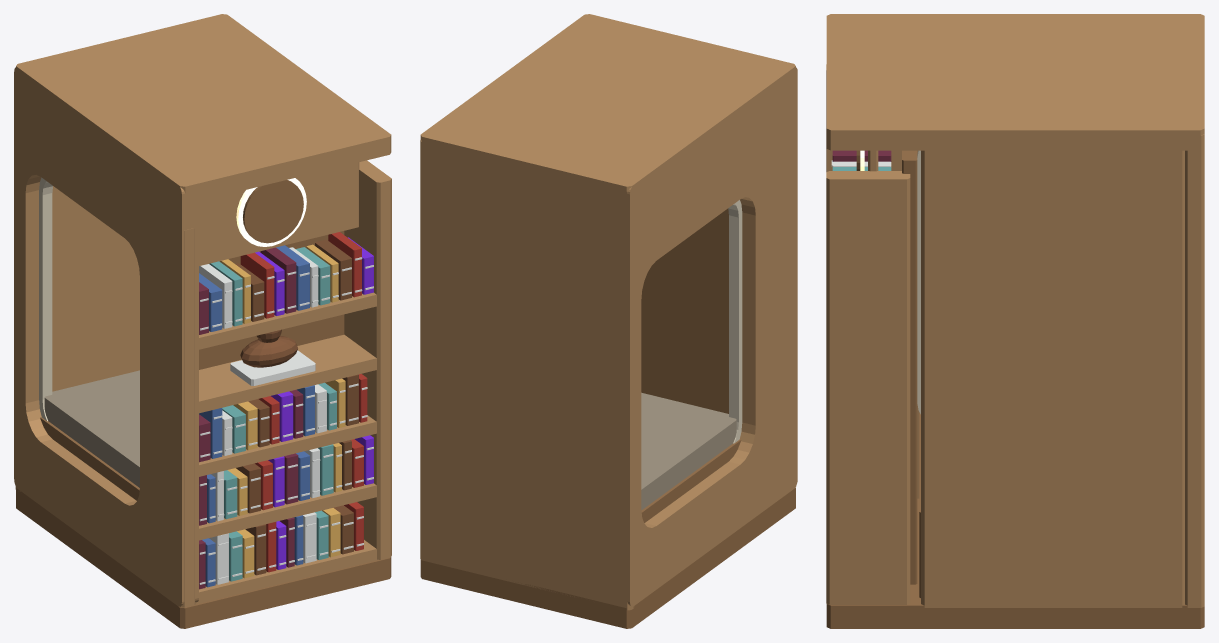
The model's file is gh_bookshelf_pod_v01.glb.
The picture shows the model from 3 angles, left to right: view 1: azimuth 30°, elevation 25°; view 2: azimuth 150°, elevation 25°; view 3: azimuth 270°, elevation 25°; orthographic projection. The views are drawn at different scales.
Parts seen in each view (by area): view 1: Bookshelf shell and genuine side niche palette, Bust halo and fittings palette, Bookshelf shell and genuine side niche fabric, Bust halo and fittings warm_light; view 2: Bookshelf shell and genuine side niche palette, Bookshelf shell and genuine side niche fabric; view 3: Bookshelf shell and genuine side niche palette, Bookshelf shell and genuine side niche fabric.
Part boxes in pixels (box(x1,y1,x2,y2)): Bookshelf shell and genuine side niche palette: box(14, 14, 391, 628); Bust halo and fittings palette: box(199, 162, 359, 385); Bookshelf shell and genuine side niche fabric: box(39, 177, 139, 487); Bust halo and fittings warm_light: box(236, 178, 306, 246); Bookshelf shell and genuine side niche palette: box(420, 14, 797, 628); Bookshelf shell and genuine side niche fabric: box(641, 200, 742, 509); Bookshelf shell and genuine side niche palette: box(826, 14, 1204, 628); Bookshelf shell and genuine side niche fabric: box(917, 150, 920, 414).
Bounding box in the file's own units: 1.6 × 3.2 × 2.2.
Materials: 3 (3 with a texture image).
